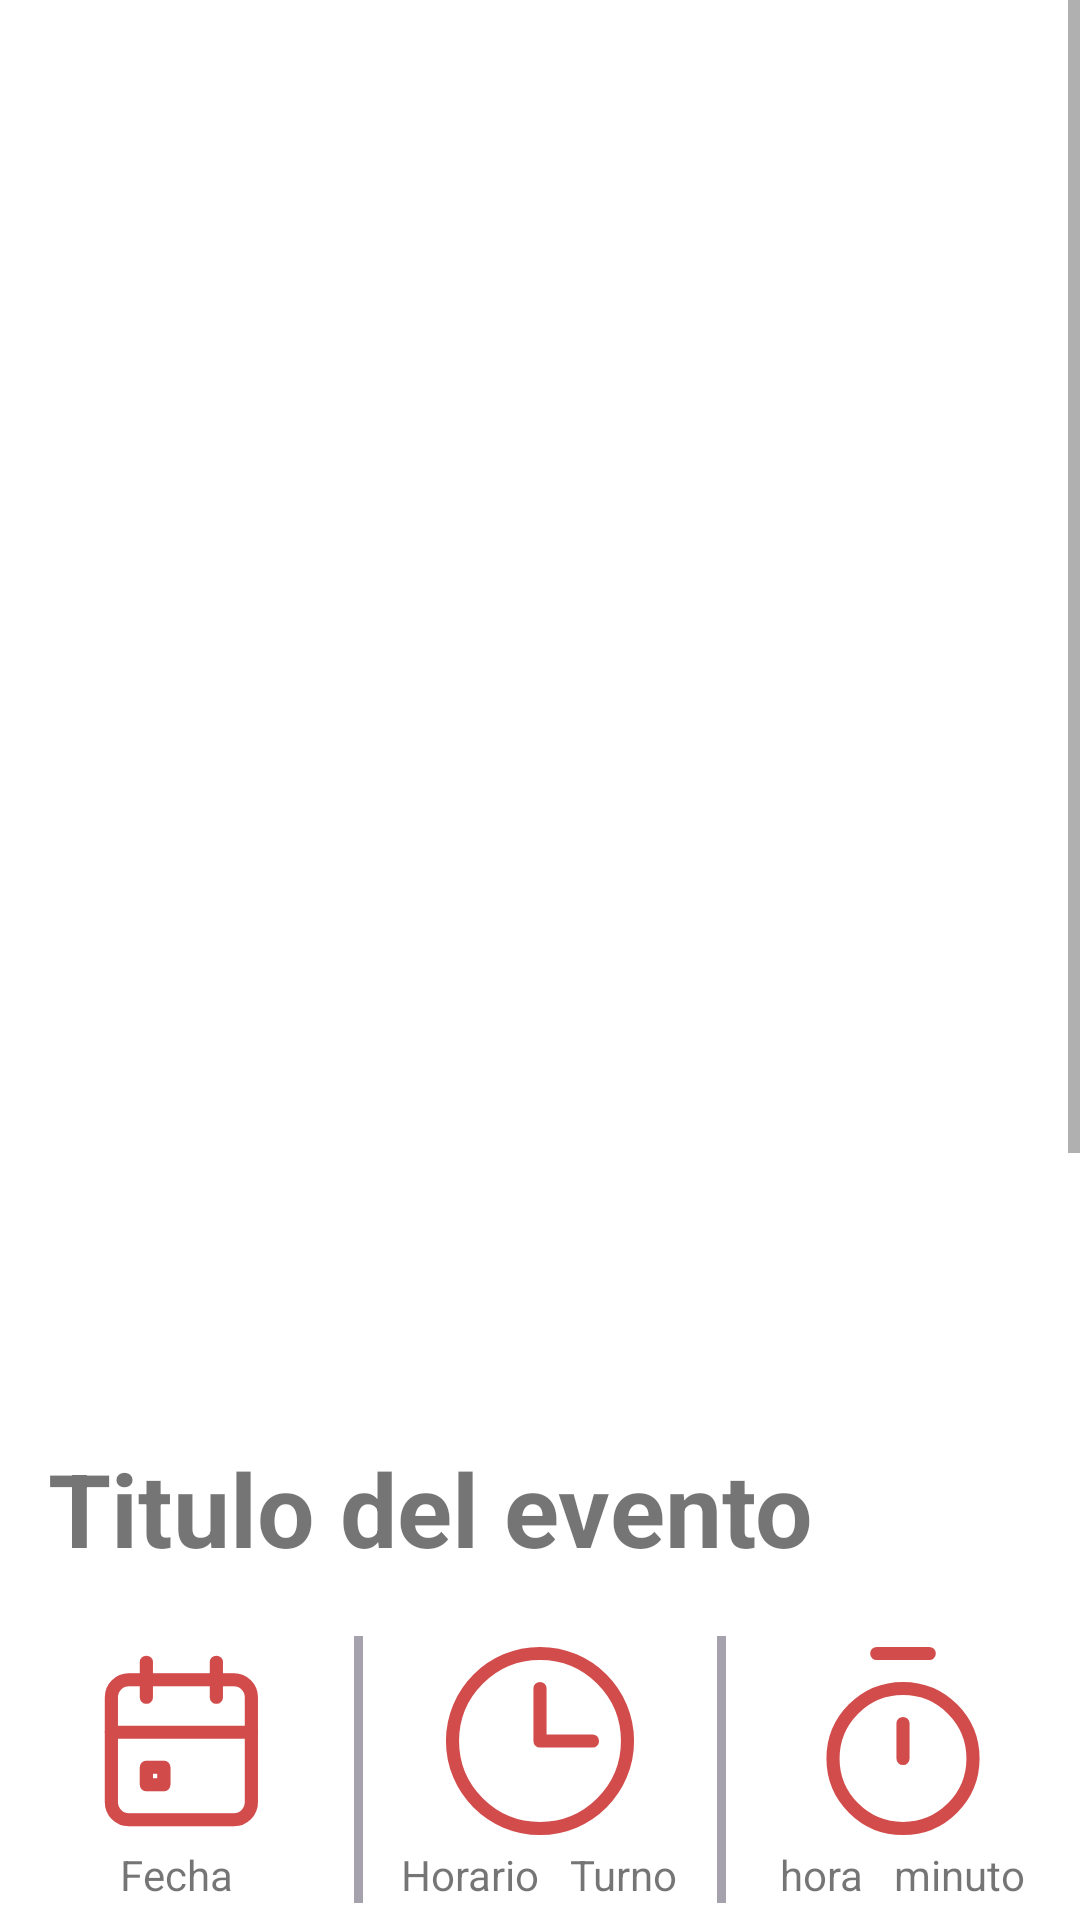

Point at icon controls on the screen. Image size 1080 x 1920, points as point (x, y).
calendar event: point (181, 1741)
clock: point (540, 1741)
